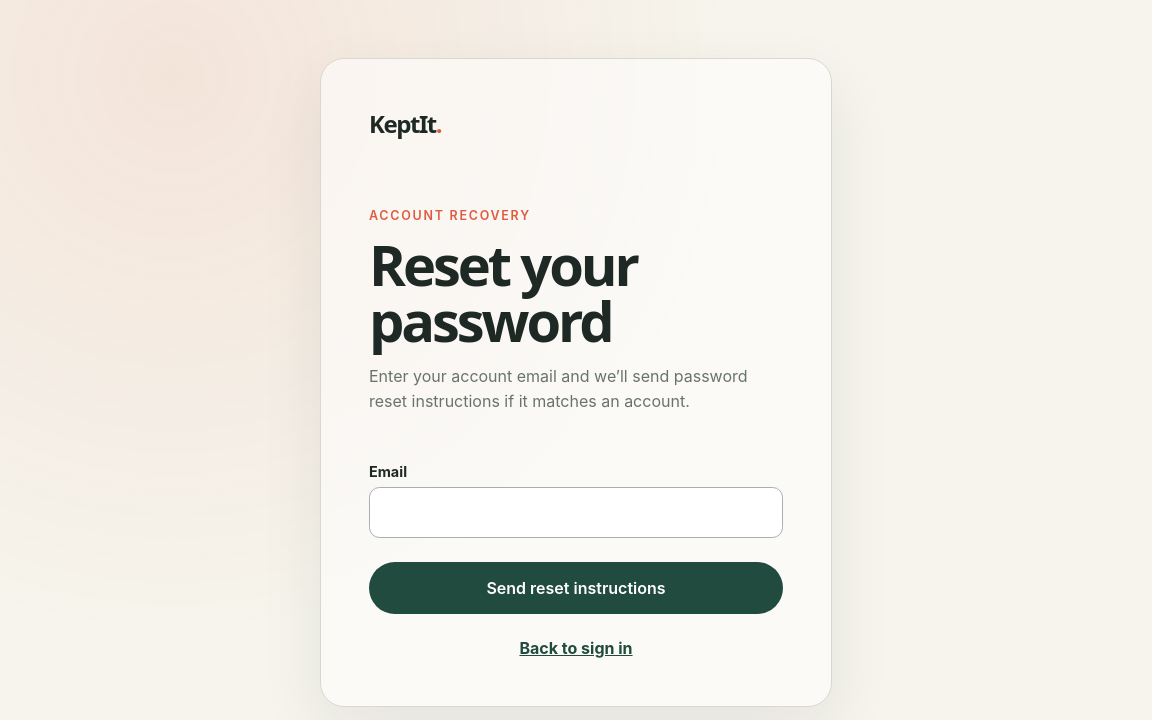
Test: password recovery › renders forgot-password, validates email, and shows generic success
This screenshot has width=1152, height=720.
Expected: the heading "Reset your password" is shown, [369,226,637,358]
Type "invalid" into the field labelled "Email".
click(576, 513); type("invalid")  # box [369,487,783,538]
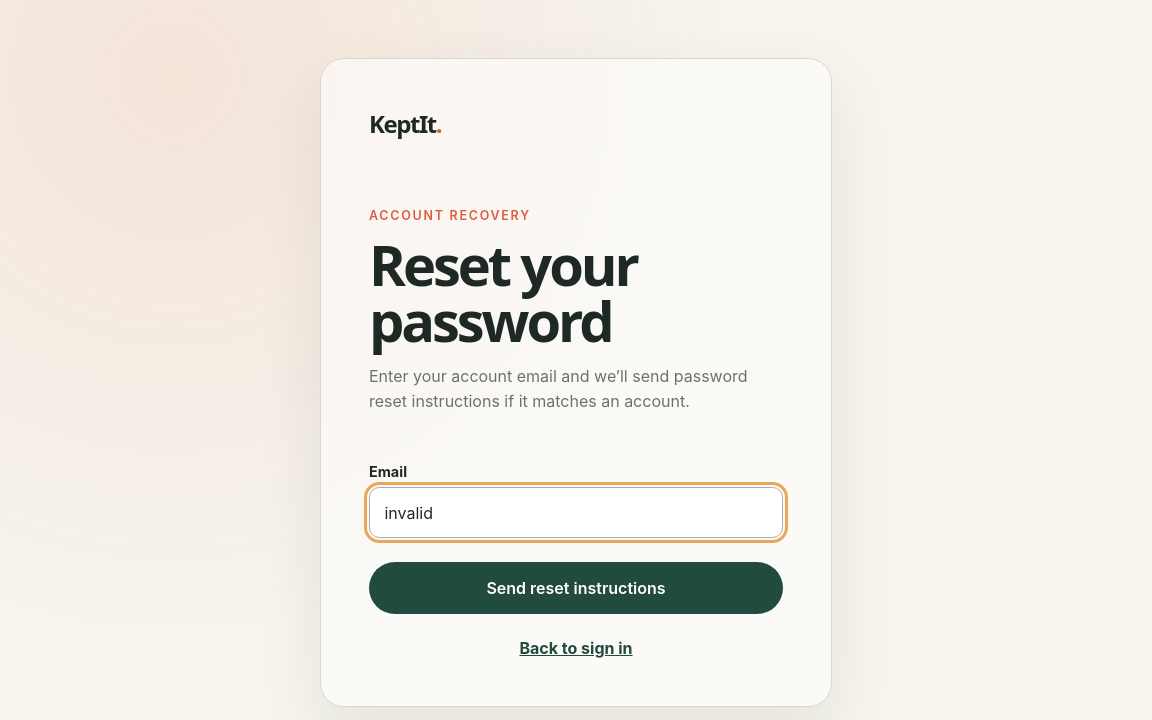
Click the button "Send reset instructions".
click(576, 588)  # box [369,562,783,614]
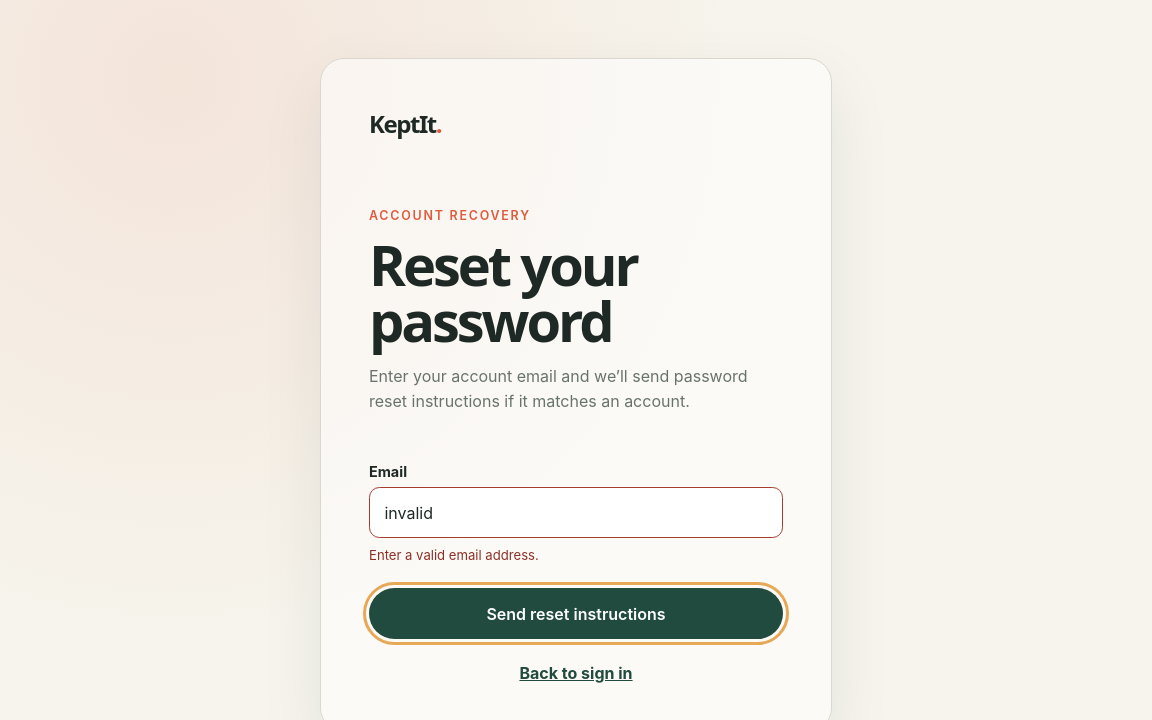
Result: the text "Enter a valid email address." is shown at [369,547,539,563]
Replace the text in the field labelled "Email" with "unknown@example.com" at (576, 513), box [369,487,783,538]
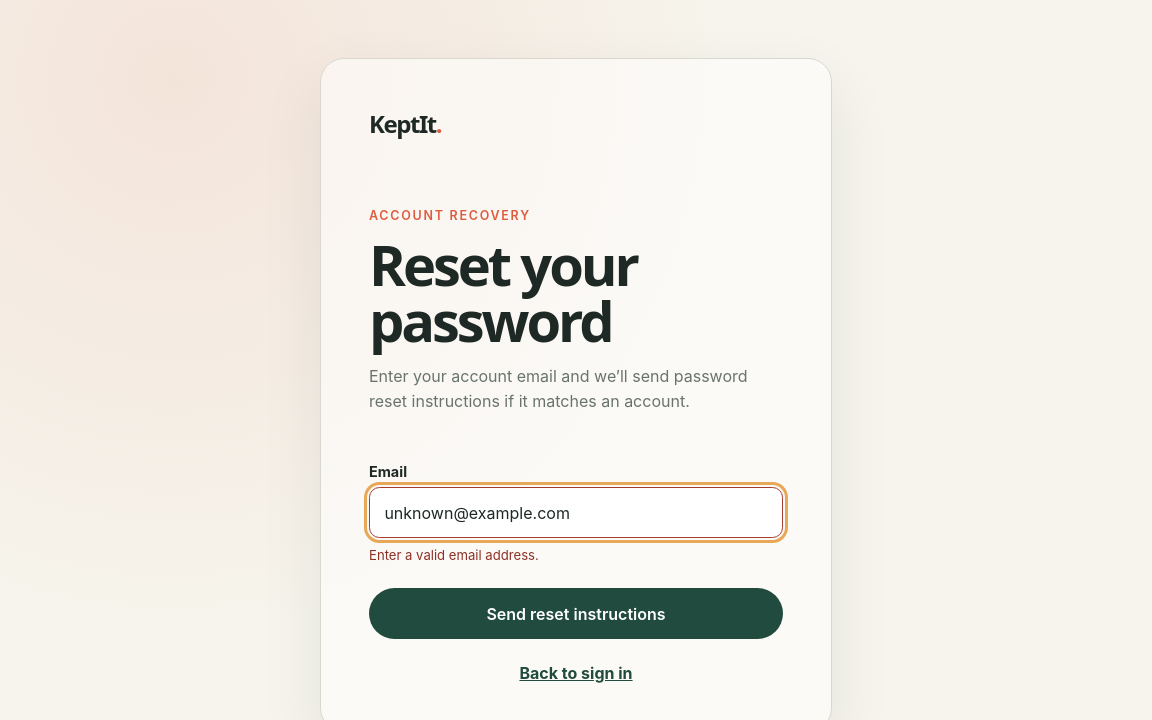
Click the button "Send reset instructions".
click(576, 614)  # box [369,588,783,639]
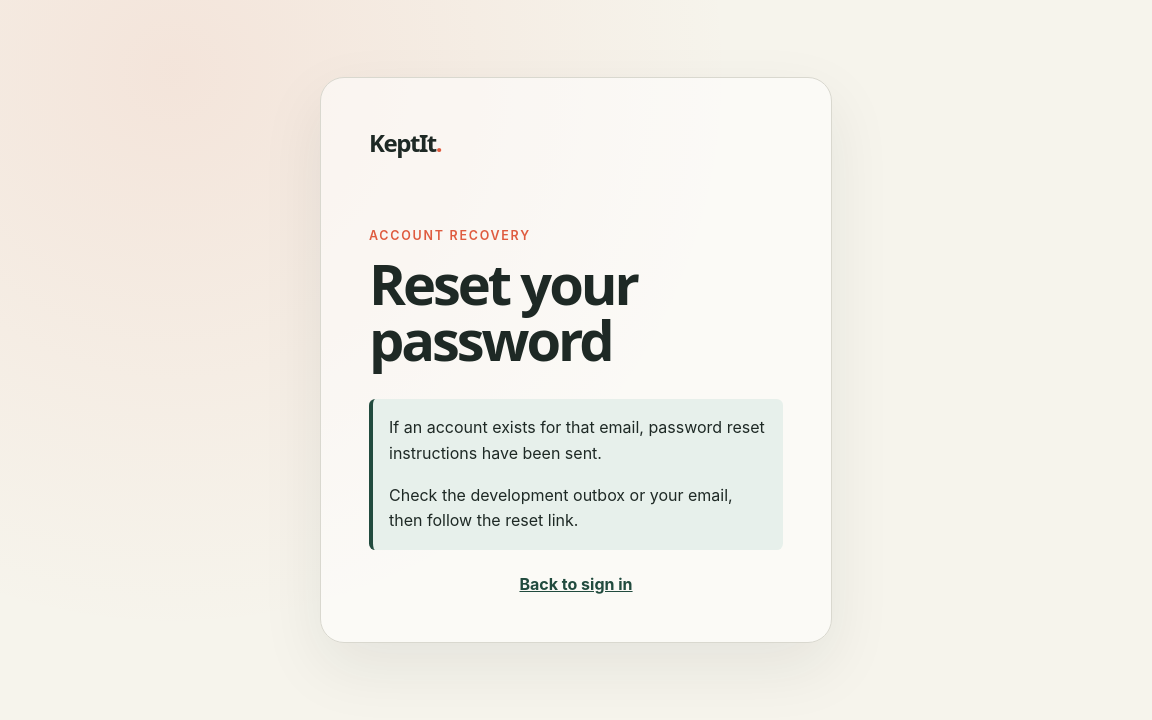
Result: the message reads "If an account exists for that email, password reset instructions have been sent." at [389,417,765,463]
